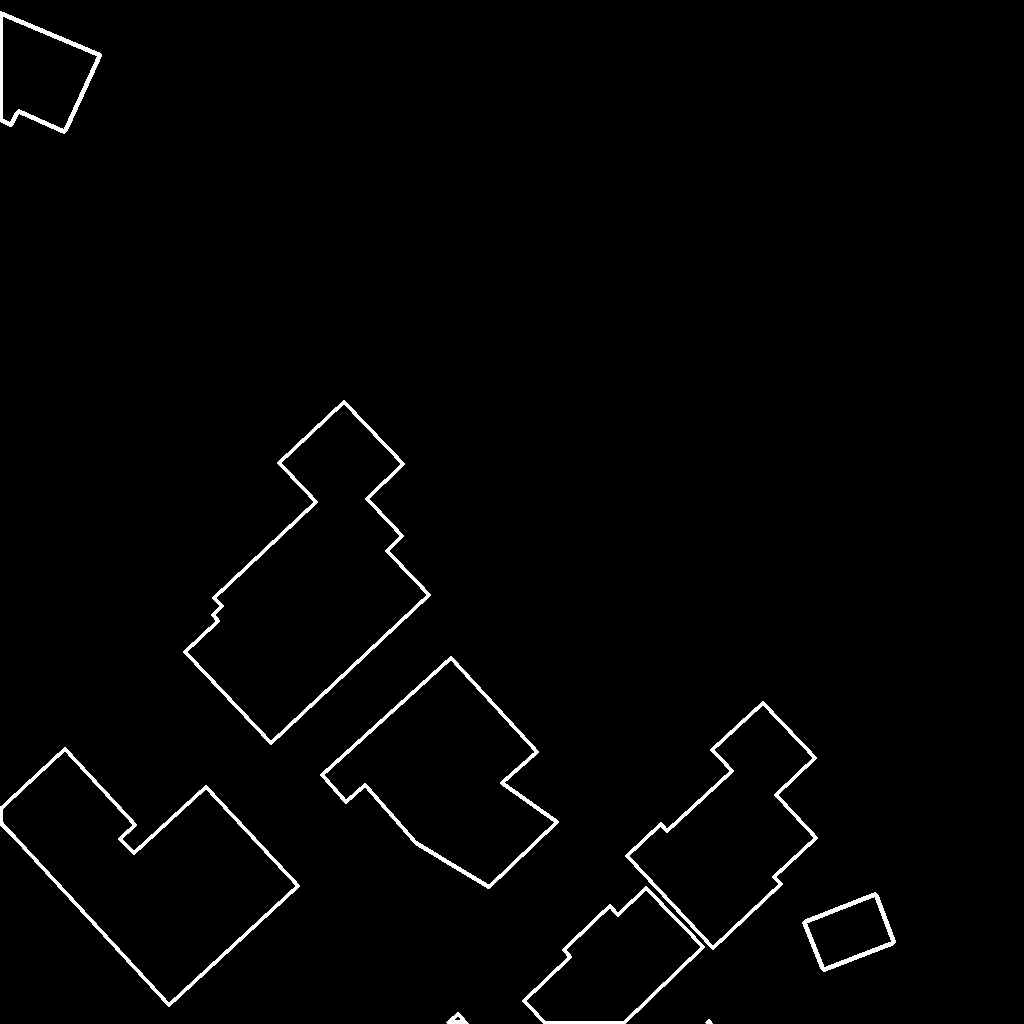building: (185, 402, 430, 744), (0, 749, 299, 1006), (322, 658, 558, 888), (627, 703, 817, 949), (524, 888, 704, 1024), (0, 13, 101, 133), (804, 894, 895, 971), (448, 1014, 468, 1024), (707, 1021, 712, 1024)
